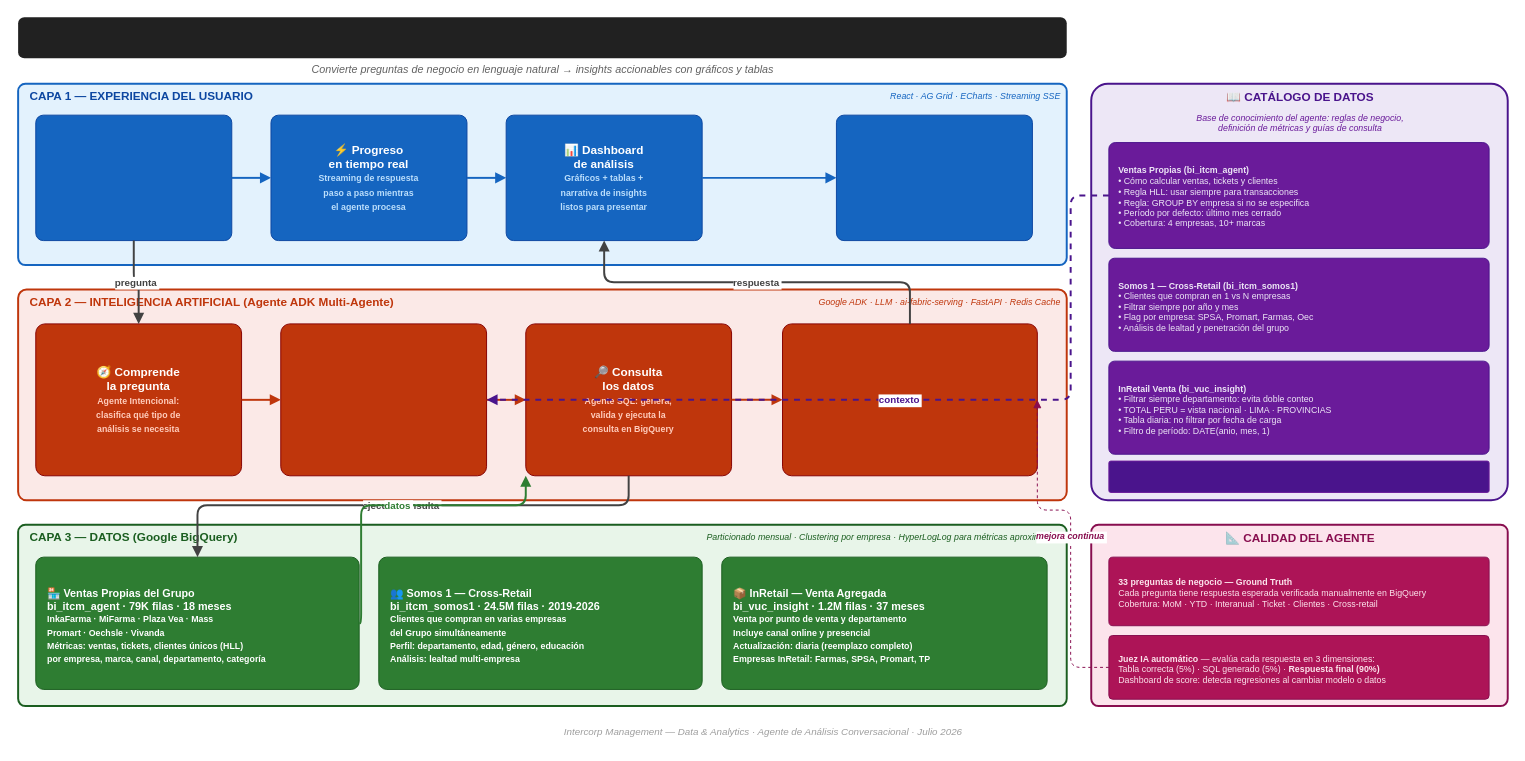
This 1525x761 diagram has some shape labels left out. The shapes that lost their labels are listed below. From the top down, each one's centre as x and y in pixels, then its label:
the point at 542,37: Agente de Análisis de Datos — inca-analytics-agent
the point at 133,177: 💬 Chat conversacional El usuario escribe su pregunta en lenguaje natural
the point at 933,177: 📁 Historial y colaboración Guarda, versiona y comparte análisis con el equipo
the point at 383,399: 📚 Busca el contexto Agente Semántico: consulta el catálogo de datos disponibles
the point at 909,399: ✨ Genera la respuesta Agentes Insights + Chips: narrativa, gráfico, sugerencias
the point at 1298,476: 🔍 Embeddings indexados en Vector Store para búsqueda semántica por el Agente
